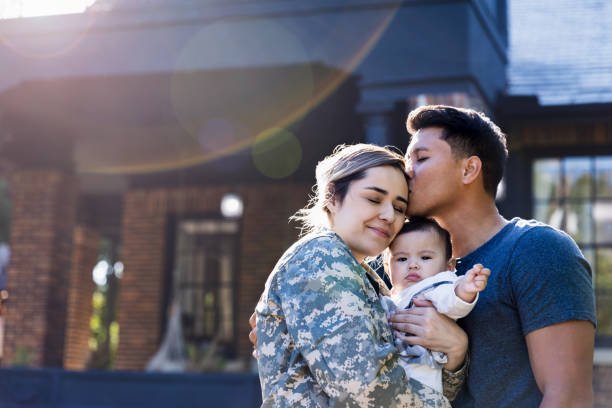without mask: (324, 150, 405, 249), (401, 116, 482, 215), (380, 216, 454, 291)
